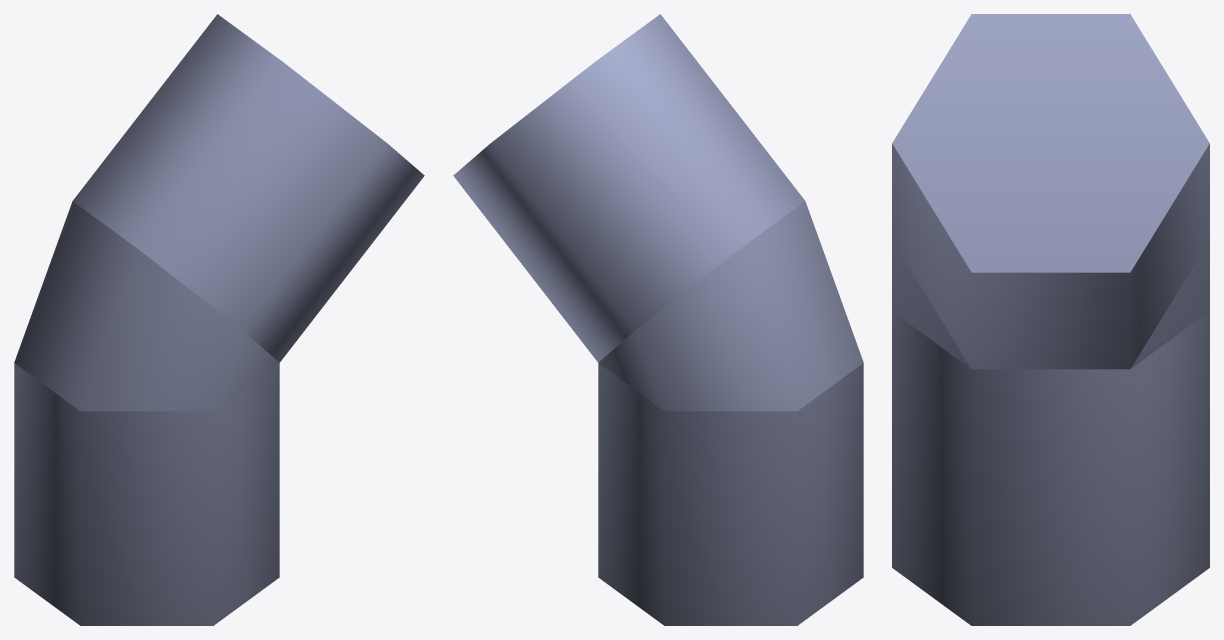
File: pipe-bend-diagonal.glb
The picture shows the model from 3 angles, left to right: view 1: azimuth 30°, elevation 25°; view 2: azimuth 150°, elevation 25°; view 3: azimuth 270°, elevation 25°; orthographic projection. The views are drawn at different scales.
Visible parts, largest first — view 1: pipe-bend-diagonal; view 2: pipe-bend-diagonal; view 3: pipe-bend-diagonal.
Boxes of the visible parts, bbox=[...] form: pipe-bend-diagonal: bbox=[14, 14, 424, 625]; pipe-bend-diagonal: bbox=[453, 14, 863, 625]; pipe-bend-diagonal: bbox=[892, 14, 1209, 625].
Size of the model in its own units: 0.4257 by 0.6071 by 0.2846.
